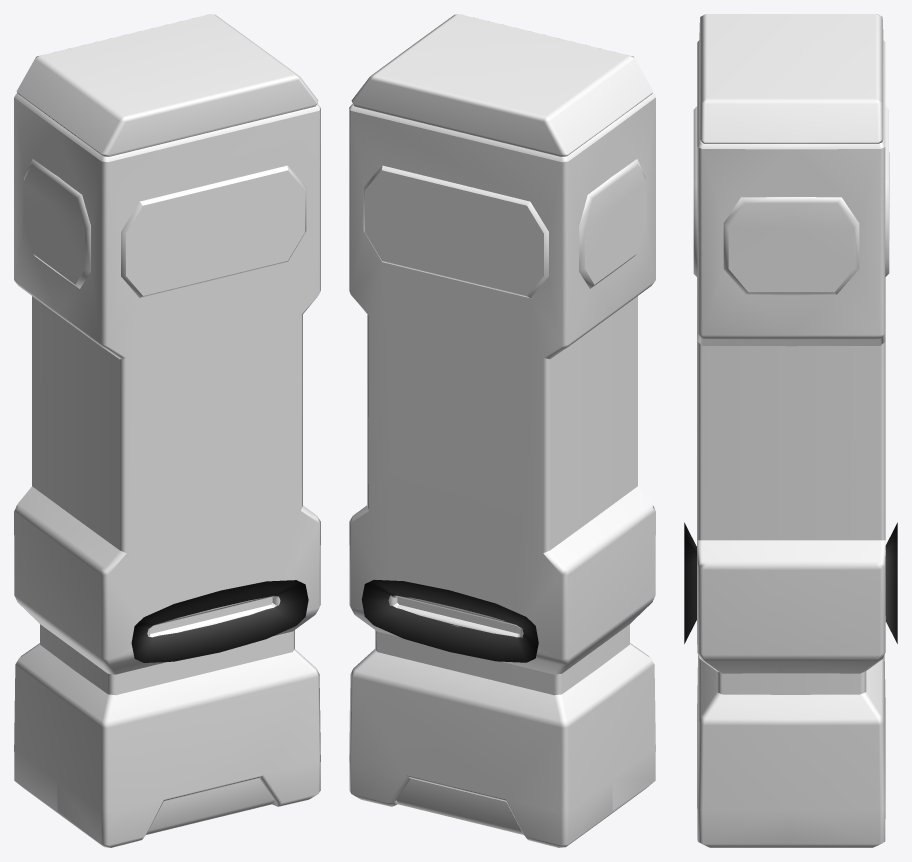
The model's file is HatCoBarrierPillarVisual.glb.
3 renders of one model, left to right at view 1: azimuth 30°, elevation 25°; view 2: azimuth 150°, elevation 25°; view 3: azimuth 270°, elevation 25°, orthographic.
Visible parts, largest first — view 1: BarrierHologram, HatCoBarrierGlow; view 2: BarrierHologram, HatCoBarrierGlow; view 3: BarrierHologram, HatCoBarrierGlow.
Boxes of the visible parts, x1,y1,x2,y2 form: BarrierHologram: (14, 14, 320, 847); HatCoBarrierGlow: (131, 580, 308, 662); BarrierHologram: (349, 14, 655, 847); HatCoBarrierGlow: (361, 579, 538, 662); BarrierHologram: (693, 14, 889, 847); HatCoBarrierGlow: (684, 522, 897, 643).
Bounding box in the file's own units: 0.6577 × 2.02 × 0.5262.
Materials: 4 (3 with a texture image).
